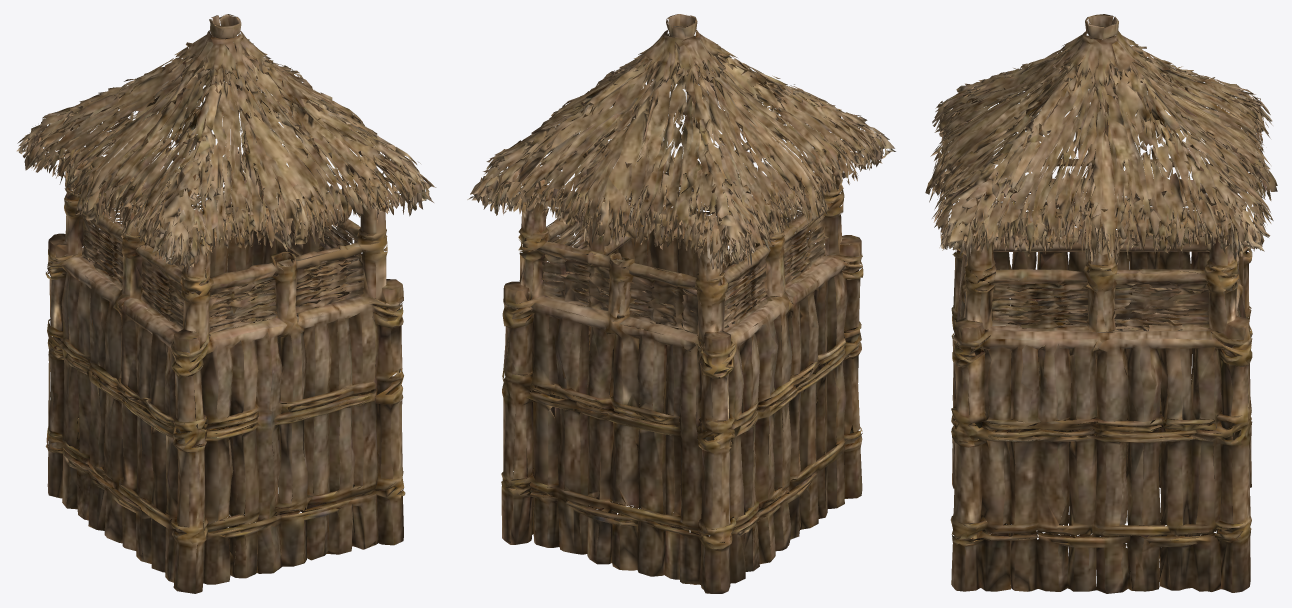
The model's file is watchtower_mid.glb.
3 views of the same model, side by side, from view 1: azimuth 30°, elevation 25°; view 2: azimuth 150°, elevation 25°; view 3: azimuth 270°, elevation 25° (orthographic). The views are drawn at different scales.
Visible parts, largest first — view 1: model; view 2: model; view 3: model.
Boxes of the visible parts, bbox=[...] form: model: bbox=[16, 14, 436, 593]; model: bbox=[467, 14, 895, 593]; model: bbox=[925, 14, 1277, 593].
Size of the model in its own units: 0.6051 by 0.9985 by 0.6181.
1 material, 1 textured.
